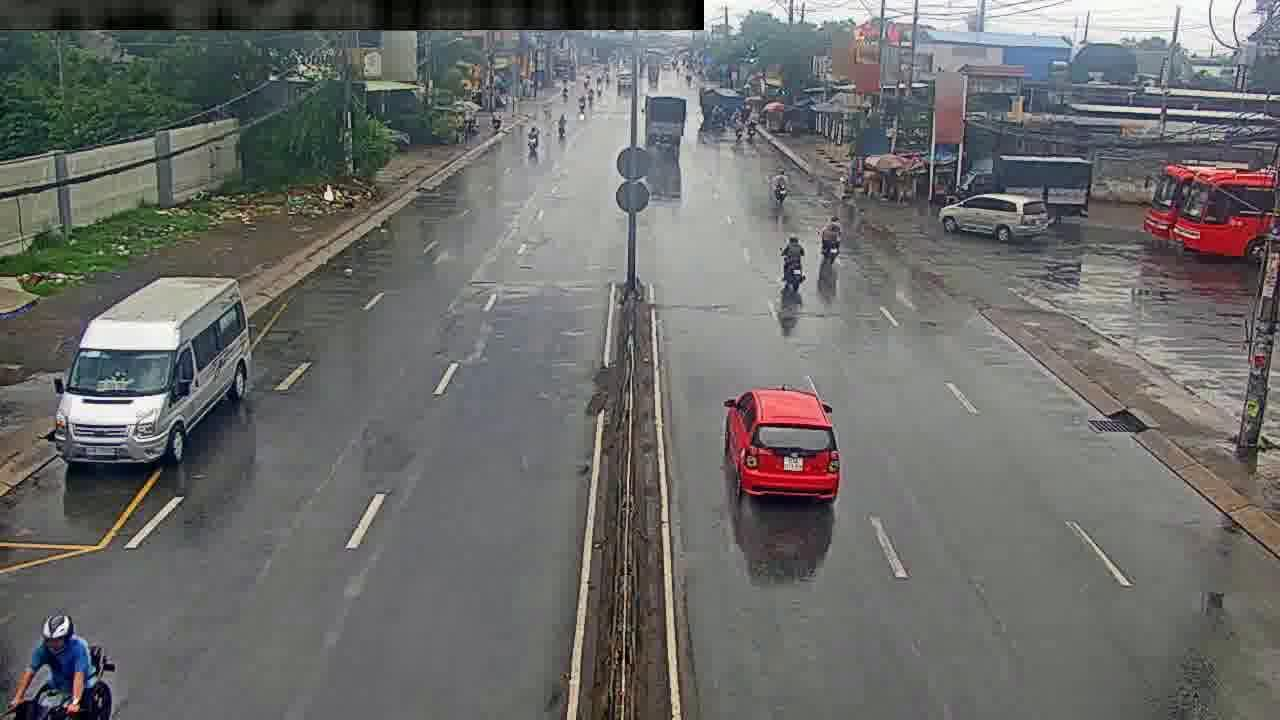14: (47, 275, 249, 467)
8: (644, 93, 686, 151)
container: (731, 376, 836, 511), (938, 196, 1047, 241)
motorbike: (31, 591, 96, 720), (781, 232, 804, 293), (816, 214, 838, 269), (772, 164, 792, 205), (526, 116, 541, 154), (566, 98, 579, 130)
